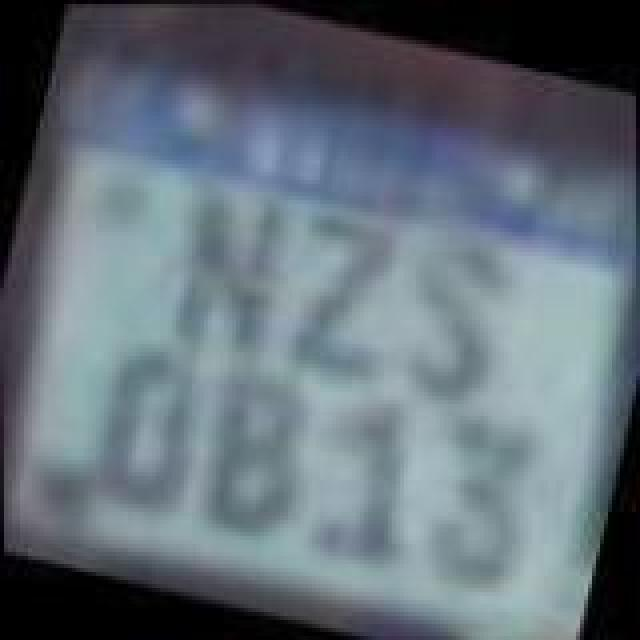1: (292, 386, 448, 578)
3: (402, 398, 558, 594)
B: (178, 358, 322, 546)
D: (78, 326, 214, 514)
N: (158, 174, 298, 362)
S: (378, 224, 518, 416)
Z: (268, 200, 420, 396)
